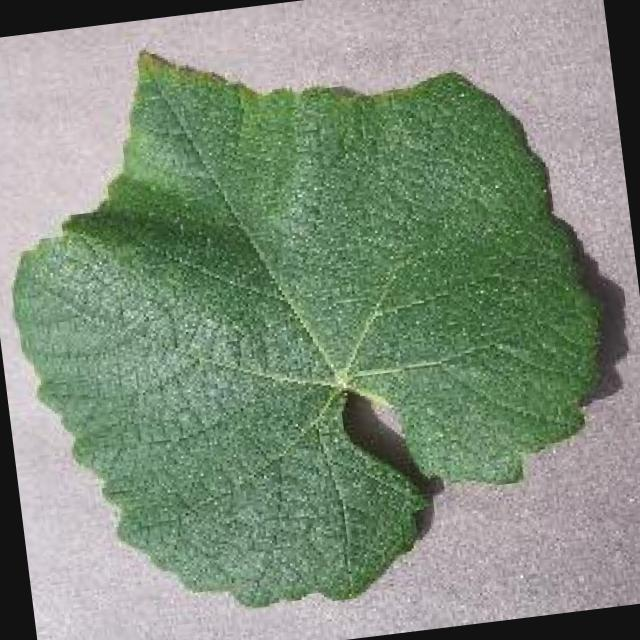healthy: (18, 52, 600, 603)
